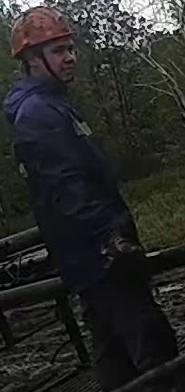gloves: (99, 227, 143, 275)
helmet: (9, 5, 77, 58)
vest: (1, 82, 152, 298)
